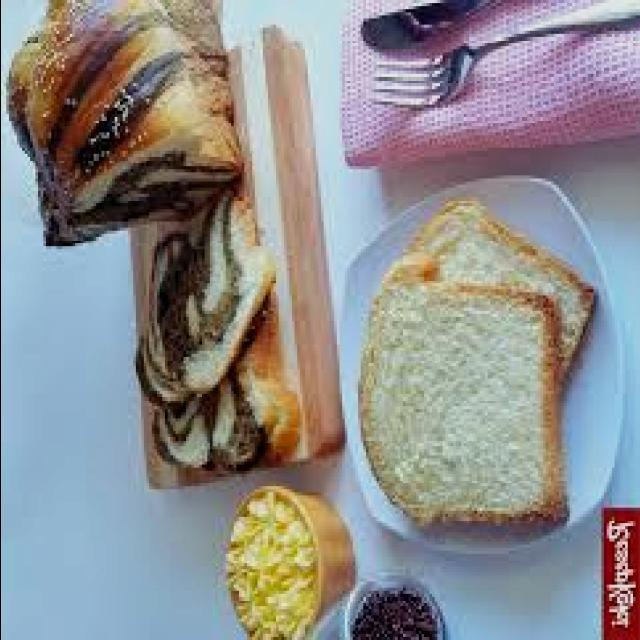roti tawar: (352, 249, 566, 556)
